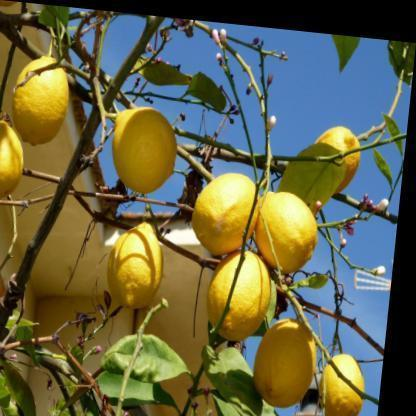lemon: (206, 250, 272, 341), (253, 317, 317, 408), (192, 172, 260, 256), (112, 106, 176, 193), (254, 190, 318, 272), (13, 55, 69, 146), (107, 220, 163, 310), (315, 126, 361, 194), (320, 353, 364, 416), (0, 119, 24, 199)
